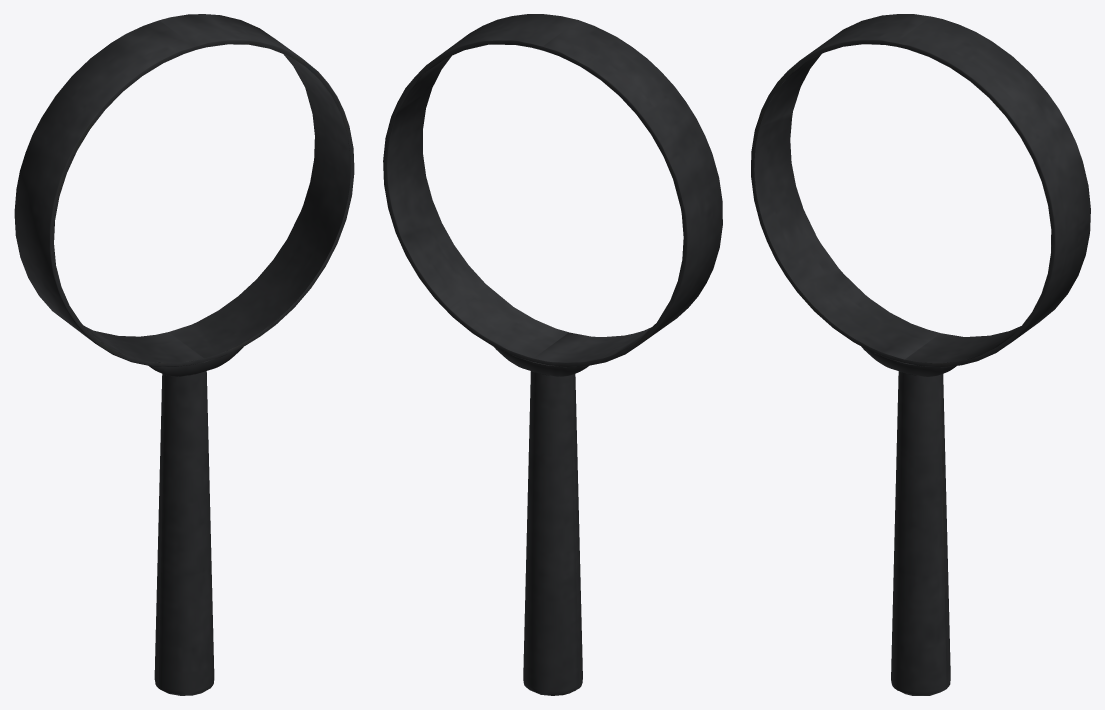
Rendered from magnifier.glb.
3 views of the same model, side by side, from view 1: azimuth 30°, elevation 25°; view 2: azimuth 150°, elevation 25°; view 3: azimuth 330°, elevation 25° (orthographic).
Visible parts, largest first — view 1: magnifying_glass_01; view 2: magnifying_glass_01; view 3: magnifying_glass_01.
Part boxes in pixels (x1,y1,x2,y2): magnifying_glass_01: [14, 14, 354, 695]; magnifying_glass_01: [383, 14, 722, 695]; magnifying_glass_01: [751, 14, 1090, 695].
Size of the model in its own units: 0.1322 by 0.2715 by 0.027.
Materials: 1 (1 with a texture image).
